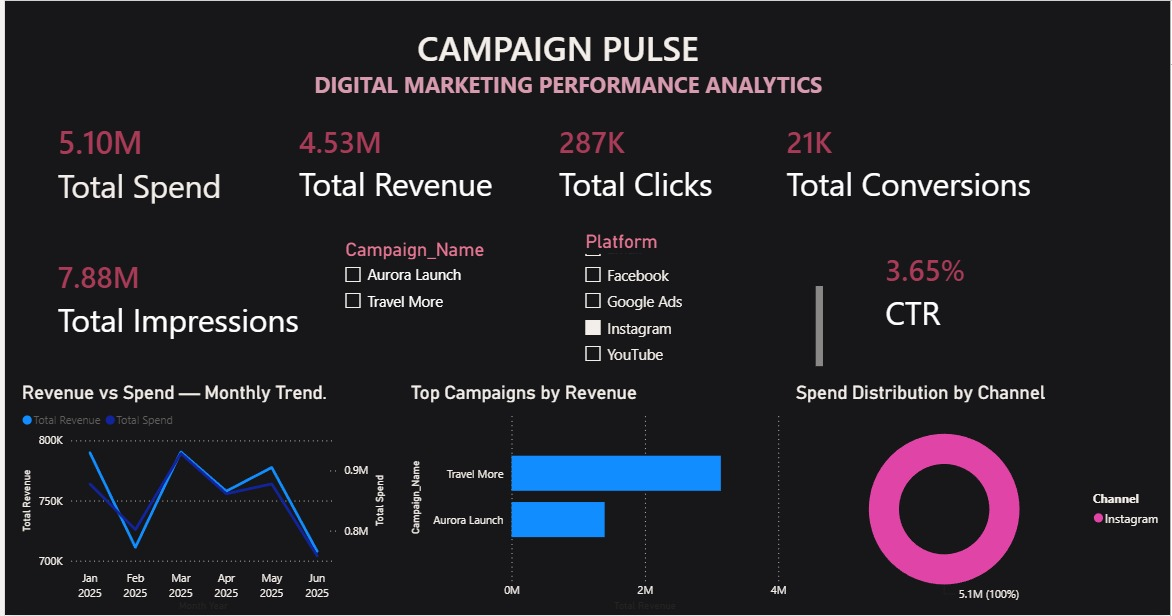

The page's visual inventory and layout, read from the dashboard file:
{"tool":"powerbi","page":{"name":"Page 1","canvas":[1280,720],"ordinal":0},"visuals":[{"type":"textbox","box":[293.7,65.9,661.4,94.7],"z":0},{"type":"cardVisual","fields":{"Data":["Campaign_Pulse_PowerBI_Dataset.Total Spend"]},"box":[28.8,160.5,251.1,124.9],"z":1000},{"type":"cardVisual","fields":{"Data":["Campaign_Pulse_PowerBI_Dataset.Total Revenue"]},"box":[293.7,160.5,279.9,124.9],"z":2000},{"type":"cardVisual","fields":{"Data":["Campaign_Pulse_PowerBI_Dataset.Total Impressions"]},"box":[28.8,300.5,332.1,142.7],"z":3000},{"type":"cardVisual","fields":{"Data":["Campaign_Pulse_PowerBI_Dataset.Total Clicks"]},"box":[579.1,160.5,236,124.9],"z":4000},{"type":"cardVisual","fields":{"Data":["Campaign_Pulse_PowerBI_Dataset.Total Conversions"]},"box":[828.8,160.5,393.8,124.9],"z":5000},{"type":"cardVisual","fields":{"Data":["Campaign_Pulse_PowerBI_Dataset.CTR"]},"box":[937.2,285.4,321.1,157.8],"z":6000},{"type":"lineChart","title":"Revenue vs Spend — Monthly Trend.","fields":{"Category":["Campaign_Pulse_PowerBI_Dataset.Month Year"],"Y":["Campaign_Pulse_PowerBI_Dataset.Total Revenue"],"Y2":["Campaign_Pulse_PowerBI_Dataset.Total Spend"]},"box":[13.7,462.4,408.9,258],"z":7000},{"type":"clusteredBarChart","title":"Top Campaigns by Revenue","fields":{"Category":["Campaign_Pulse_PowerBI_Dataset.Campaign_Name"],"Y":["Campaign_Pulse_PowerBI_Dataset.Total Revenue"]},"box":[440.5,462.4,422.6,258],"z":8000},{"type":"donutChart","title":"Spend Distribution by Channel","fields":{"Category":["Campaign_Pulse_PowerBI_Dataset.Channel"],"Y":["Campaign_Pulse_PowerBI_Dataset.Total Spend"]},"box":[863.1,462.4,417.2,258],"z":9000},{"type":"slicer","fields":{"Values":["Campaign_Pulse_PowerBI_Dataset.Platform"]},"box":[624.4,292.3,278.6,159.2],"z":10000},{"type":"slicer","fields":{"Values":["Campaign_Pulse_PowerBI_Dataset.Campaign_Name"]},"box":[360.9,300.5,231.9,150.9],"z":11000}]}

Visuals, with their boxes on the page's 1280x720 design canvas (x1, y1, x2, y2). These are canvas units, not pixel positions in the 1172x616 screenshot, which may show the page scaled, cropped or inside an application window:
textbox: rect(294, 66, 955, 161)
cardVisual - Campaign_Pulse_PowerBI_Dataset.Total Spend: rect(29, 160, 280, 285)
cardVisual - Campaign_Pulse_PowerBI_Dataset.Total Revenue: rect(294, 160, 574, 285)
cardVisual - Campaign_Pulse_PowerBI_Dataset.Total Impressions: rect(29, 300, 361, 443)
cardVisual - Campaign_Pulse_PowerBI_Dataset.Total Clicks: rect(579, 160, 815, 285)
cardVisual - Campaign_Pulse_PowerBI_Dataset.Total Conversions: rect(829, 160, 1223, 285)
cardVisual - Campaign_Pulse_PowerBI_Dataset.CTR: rect(937, 285, 1258, 443)
"Revenue vs Spend — Monthly Trend." lineChart: rect(14, 462, 423, 720)
"Top Campaigns by Revenue" clusteredBarChart: rect(440, 462, 863, 720)
"Spend Distribution by Channel" donutChart: rect(863, 462, 1280, 720)
slicer - Campaign_Pulse_PowerBI_Dataset.Platform: rect(624, 292, 903, 452)
slicer - Campaign_Pulse_PowerBI_Dataset.Campaign_Name: rect(361, 300, 593, 451)
